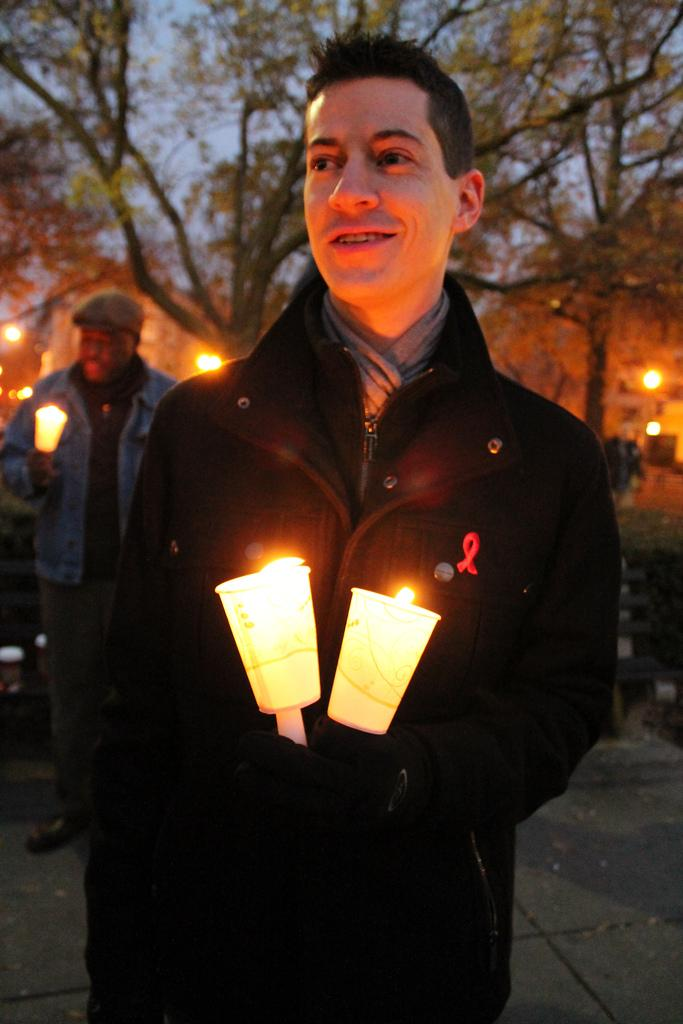fire: (392, 580, 450, 642), (258, 548, 292, 588)
